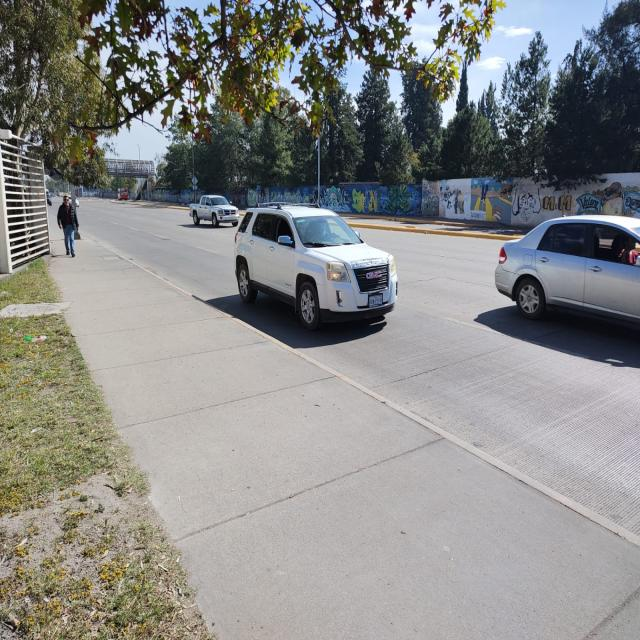Auto: (237, 206, 397, 331), (498, 211, 640, 335), (190, 190, 238, 230)
Peaton: (57, 191, 79, 258)
